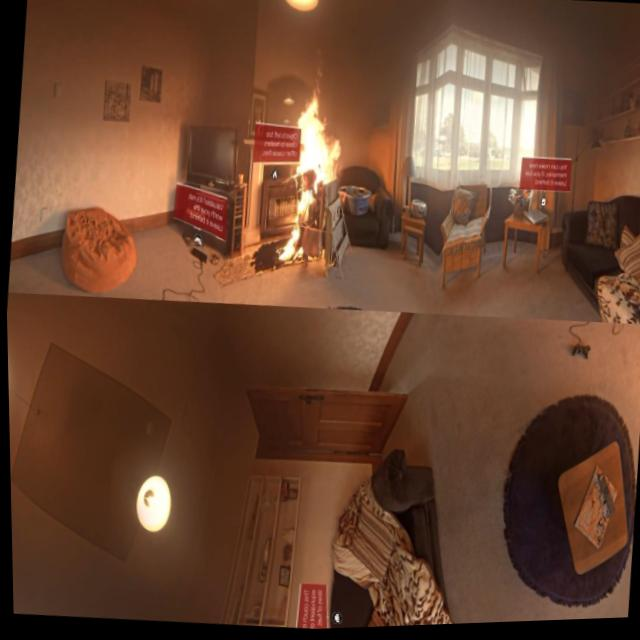fire: (272, 82, 348, 267)
